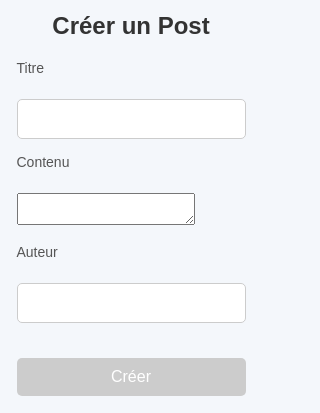
PostForm › active le bouton quand tous les champs sont remplis
Type "Titre" into the field labelled "Titre" at (131, 119), box [16,99,246,139]
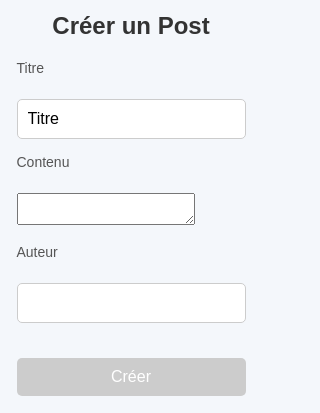
Type "Contenu" into the text box labelled "Contenu" at (106, 209), box [16,193,194,225]
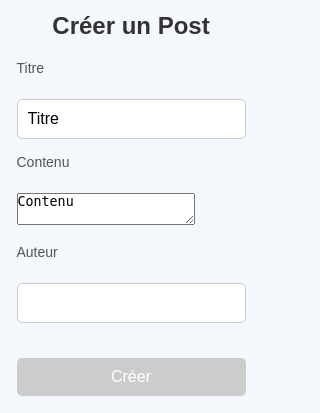
Type "Auteur" into the field labelled "Auteur" at (131, 303), box [16,283,246,323]
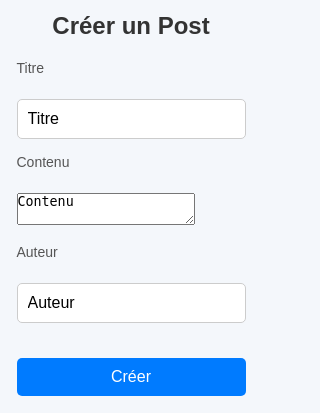
Now the button "Créer" is enabled, box [16,358,246,396]
